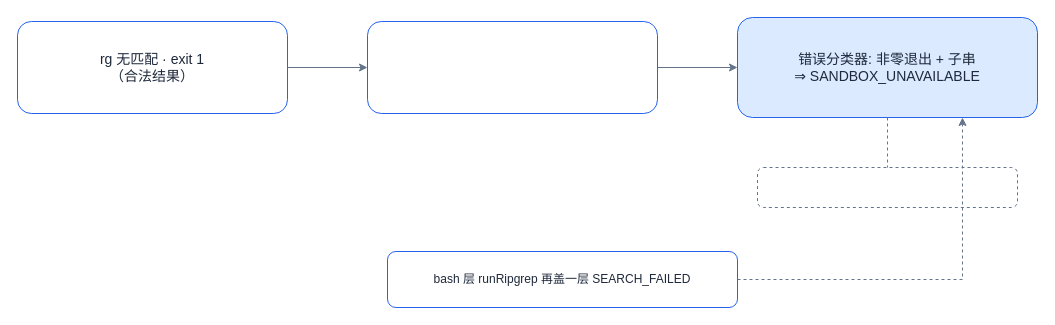
The diagram is 1055 pixels wide and 325 high, and some of its shapes have lost their labels. The centre of each missing label's shape, as x and y in pixels:
stderr 含 landlock-run: 子串? 是 （partial enforcement 通知）: pixel 512 67
把好消息认成了故障: pixel 887 187
